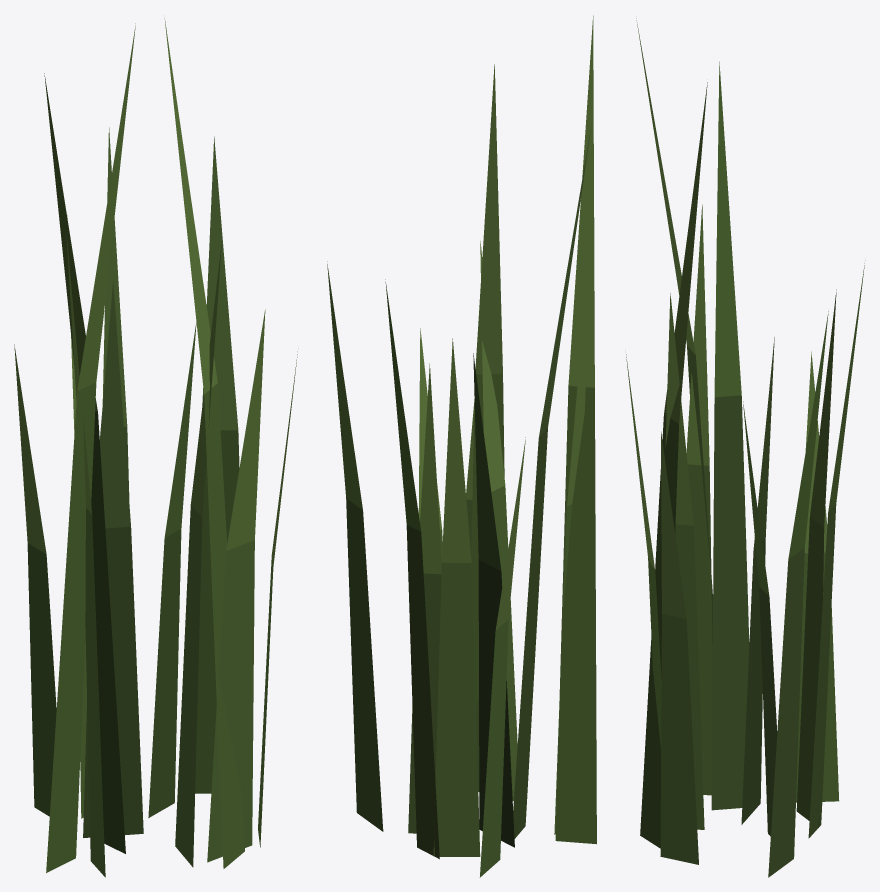
Rendered from grass-clump-b.glb.
The picture shows the model from 3 angles, left to right: view 1: azimuth 30°, elevation 25°; view 2: azimuth 150°, elevation 25°; view 3: azimuth 270°, elevation 25°; orthographic projection. The views are drawn at different scales.
Parts seen in each view (by area): view 1: Grass_Clump_B; view 2: Grass_Clump_B; view 3: Grass_Clump_B.
Boxes of the visible parts, x1,y1,x2,y2 form: Grass_Clump_B: (14, 18, 297, 877); Grass_Clump_B: (327, 15, 596, 877); Grass_Clump_B: (626, 18, 865, 877).
Bounding box in the file's own units: 0.2047 × 0.7275 × 0.2025.
1 material, 1 textured.
